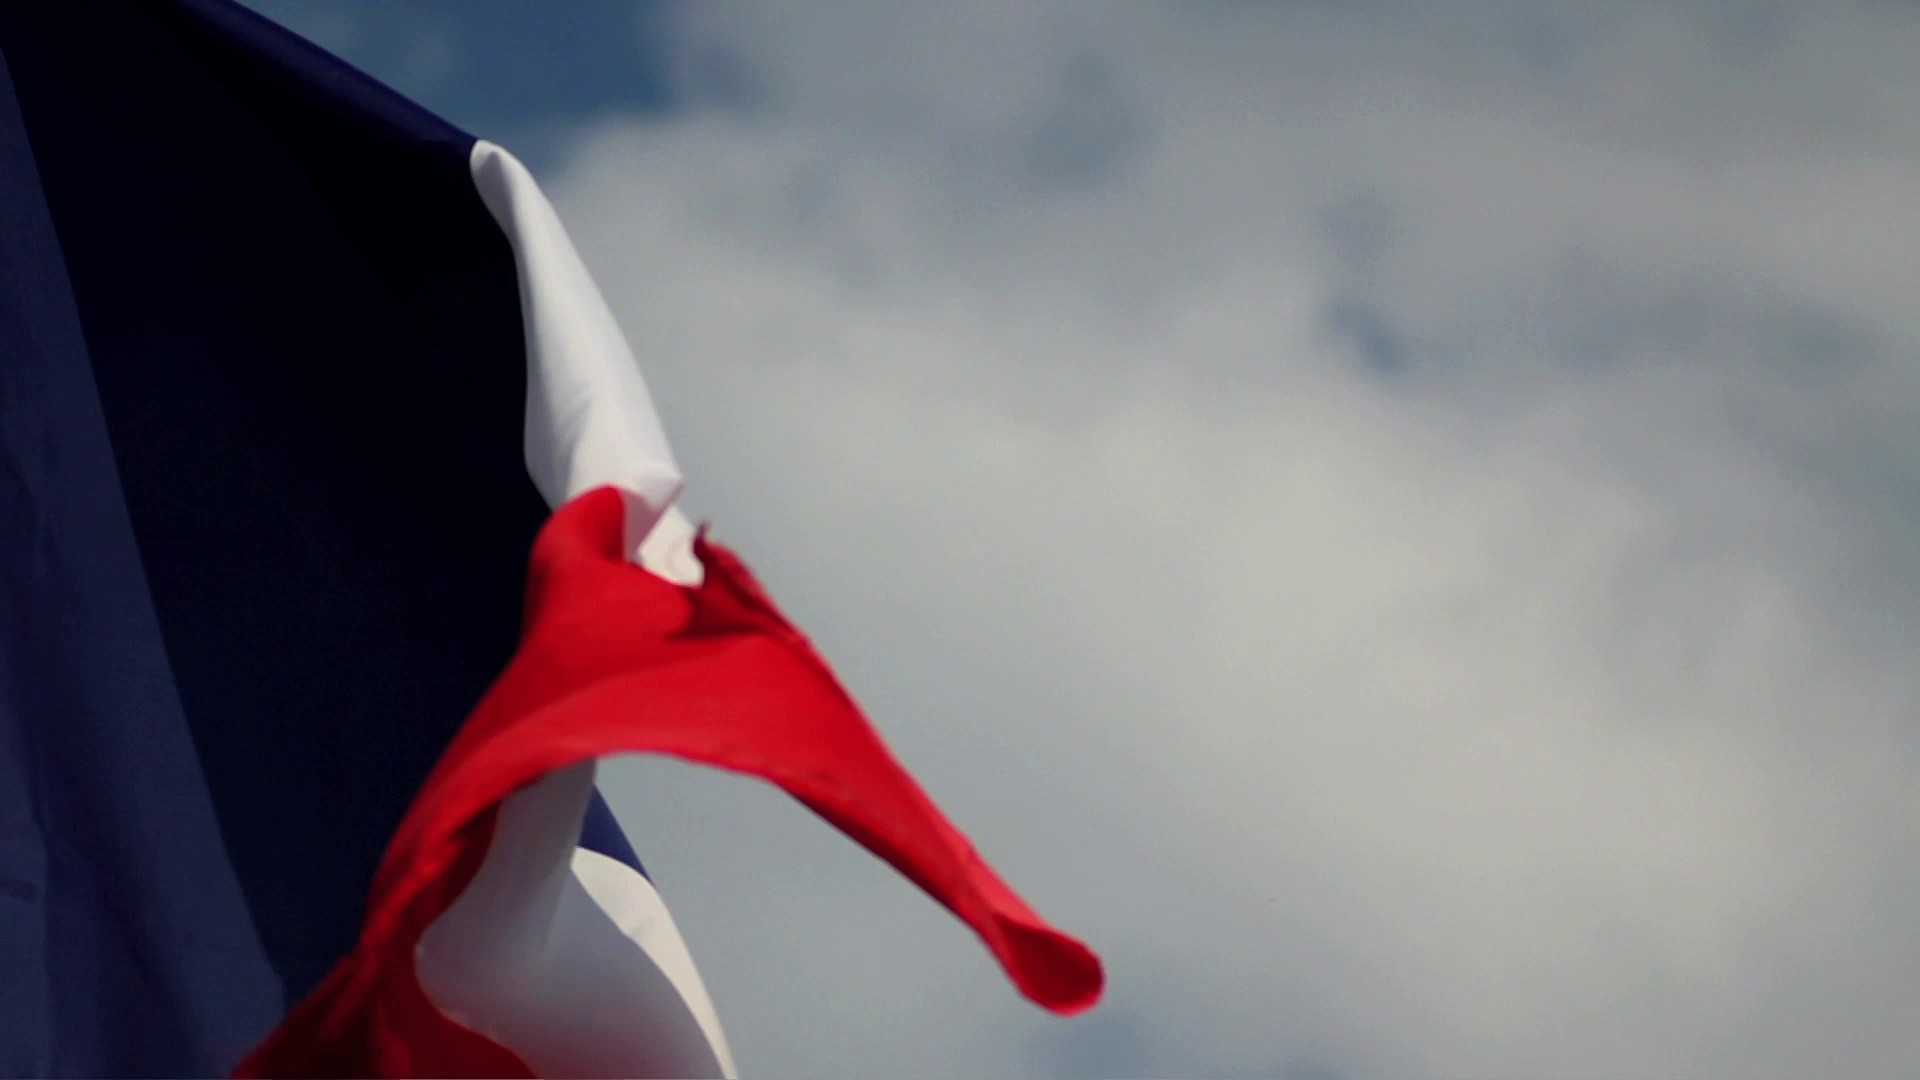French Flag: (1, 1, 1108, 1080)
